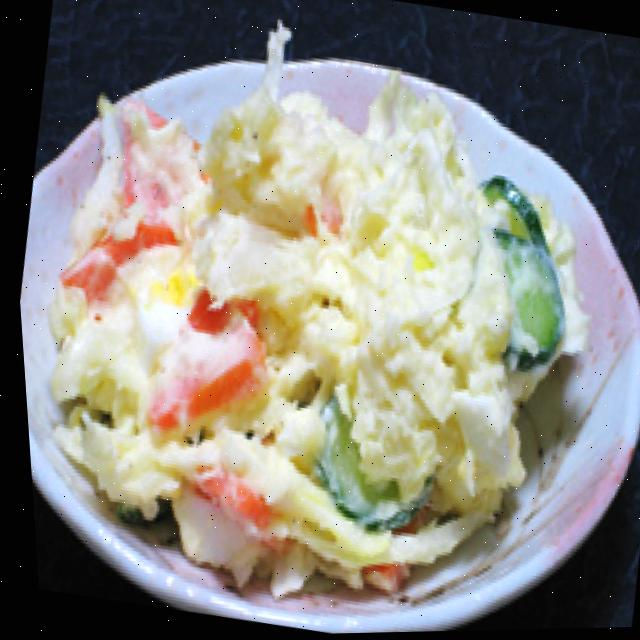蔬菜料理: (1, 7, 640, 640)
